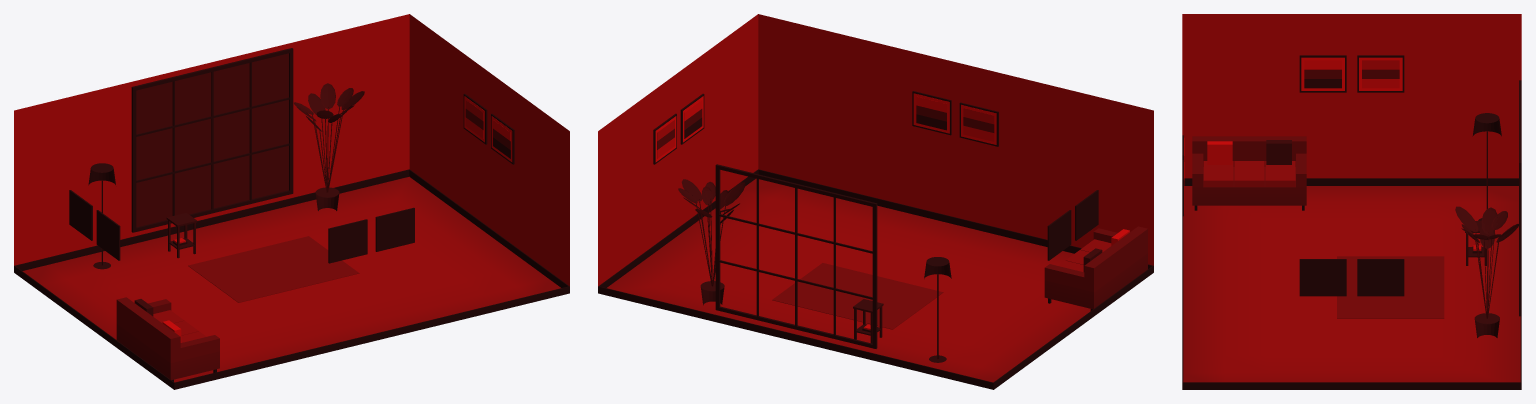
Rendered from room_city.glb.
3 renders of one model, left to right at view 1: azimuth 30°, elevation 25°; view 2: azimuth 150°, elevation 25°; view 3: azimuth 270°, elevation 25°, orthographic. The views are drawn at different scales.
Parts seen in each view (by area): view 1: Shell, CenterWindow, TankRug, CenterSofa, CenterArtF, RightPlant, CenterArtRW, CenterArtLW, LeftTable, LeftLamp; view 2: Shell, CenterSofa, CenterWindow, TankRug, CenterArtF, RightPlant, CenterArtRW, CenterArtLW, LeftLamp, LeftTable; view 3: Shell, CenterSofa, TankRug, CenterArtLW, CenterArtRW, RightPlant, CenterWindow, LeftLamp, LeftTable.
Part boxes in pixels (x1,y1,x2,y2): Shell: (14, 14, 569, 389); CenterWindow: (131, 48, 293, 232); TankRug: (188, 236, 359, 302); CenterSofa: (116, 297, 219, 381); CenterArtF: (328, 207, 414, 263); RightPlant: (294, 83, 364, 210); CenterArtRW: (463, 93, 514, 164); CenterArtLW: (69, 190, 120, 260); LeftTable: (166, 213, 197, 258); LeftLamp: (88, 163, 115, 269); Shell: (598, 14, 1153, 389); CenterSofa: (1044, 226, 1147, 310); CenterWindow: (715, 164, 877, 348); TankRug: (772, 263, 943, 329); CenterArtF: (912, 91, 998, 146); RightPlant: (678, 179, 745, 305); CenterArtRW: (653, 93, 704, 164); CenterArtLW: (1047, 190, 1098, 260); LeftLamp: (924, 257, 951, 362); LeftTable: (853, 299, 883, 343); Shell: (1182, 14, 1521, 389); CenterSofa: (1192, 136, 1306, 210); TankRug: (1337, 256, 1444, 318); CenterArtLW: (1299, 55, 1404, 92); CenterArtRW: (1299, 259, 1404, 296); RightPlant: (1455, 206, 1519, 337); CenterWindow: (1519, 80, 1521, 316); LeftLamp: (1472, 113, 1501, 220); LeftTable: (1465, 221, 1486, 265).
Bounding box in the file's own units: 720 × 282 × 505.
